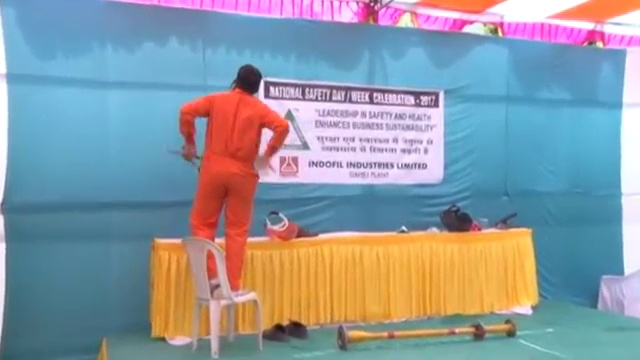helmet_off: (230, 62, 264, 98)
person: (175, 61, 289, 301)
